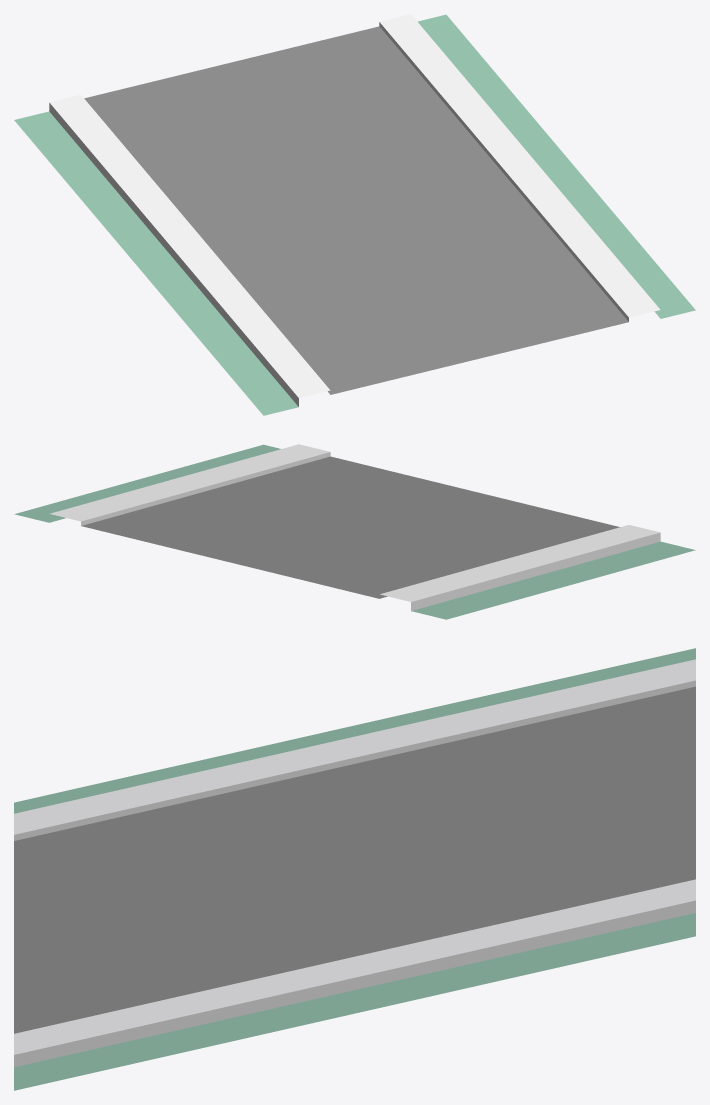
Rendered from roadRamp.glb.
3 views of the same model, one above another, from view 1: azimuth 30°, elevation 25°; view 2: azimuth 150°, elevation 25°; view 3: azimuth 270°, elevation 25° (orthographic). The views are drawn at different scales.
Visible parts, largest first — view 1: roadRamp(Clone); view 2: roadRamp(Clone); view 3: roadRamp(Clone).
Part boxes in pixels (bbox=[...]): roadRamp(Clone): bbox=[14, 14, 695, 415]; roadRamp(Clone): bbox=[14, 444, 695, 619]; roadRamp(Clone): bbox=[14, 648, 695, 1090].
Size of the model in its own units: 1 by 0.27 by 1.
Materials: 1 (1 with a texture image).
